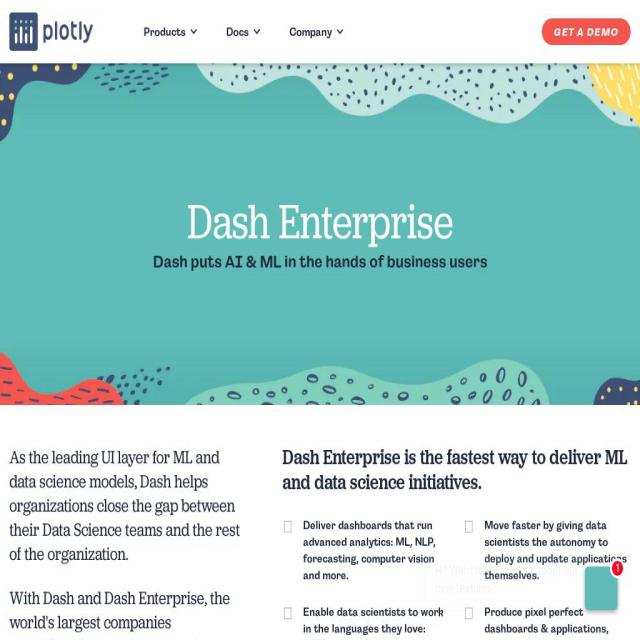chat-option: (588, 566, 622, 612)
navigation-links: (134, 20, 358, 52)
